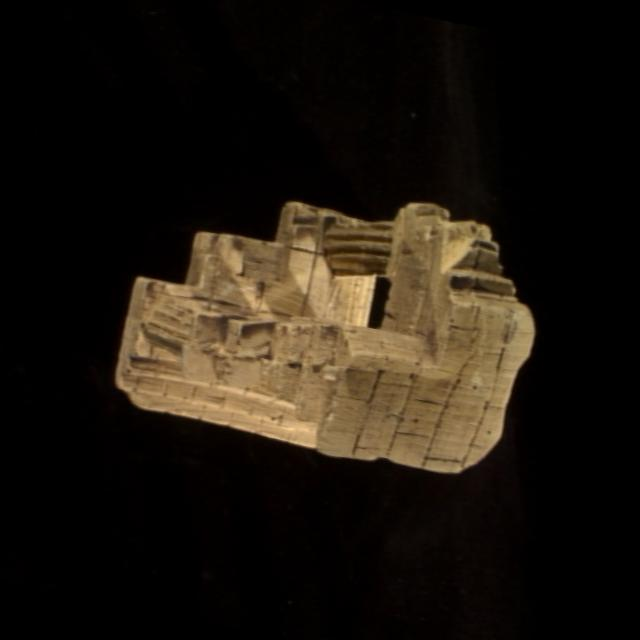Instance-Segmentation: (115, 201, 532, 469)
